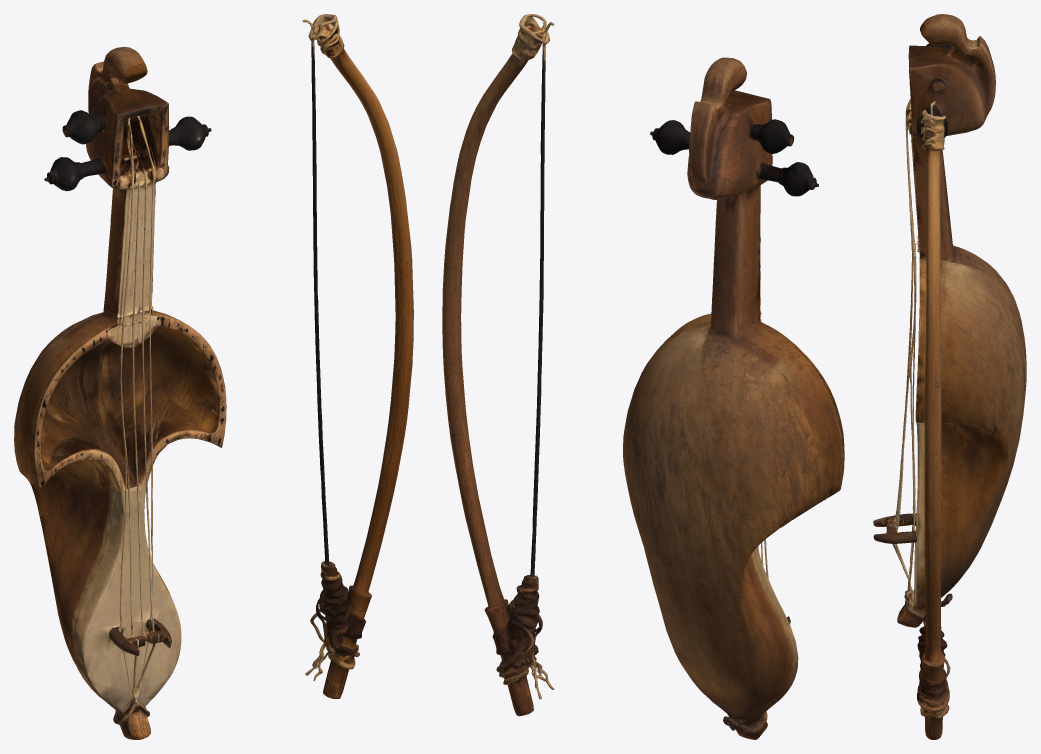
File: kobyz.glb
3 renders of one model, left to right at view 1: azimuth 30°, elevation 25°; view 2: azimuth 150°, elevation 25°; view 3: azimuth 270°, elevation 25°, orthographic. The views are drawn at different scales.
Size of the model in its own units: 1.1 by 1.9 by 0.4181.
Materials: 1 (1 with a texture image).
